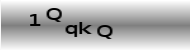1: (28, 14, 42, 27)
Q: (96, 24, 113, 39), (45, 8, 62, 22)
k: (78, 21, 92, 35)
q: (64, 24, 77, 37)
